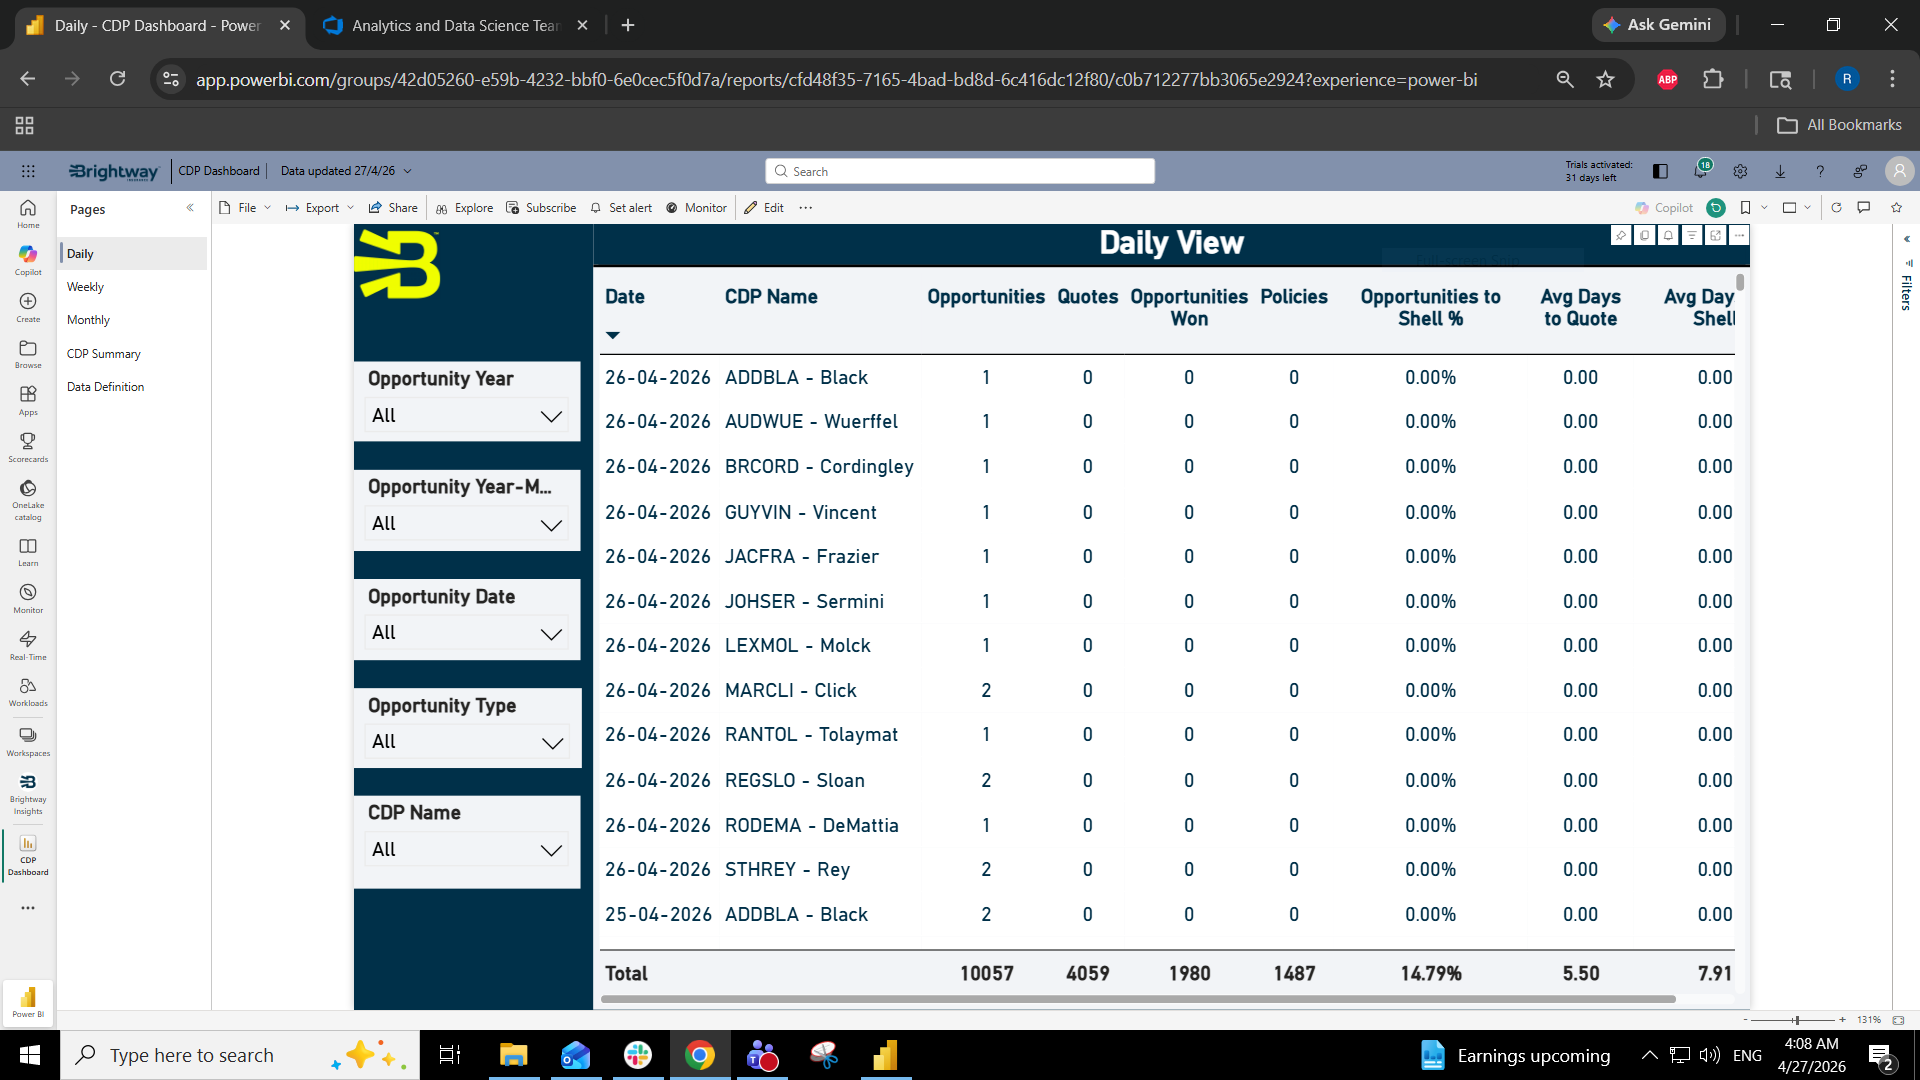

The page's visual inventory and layout, read from the dashboard file:
{"tool":"powerbi","page":{"name":"Daily","canvas":[1280,720],"ordinal":0},"visuals":[{"type":"tableEx","title":"Daily View","fields":{"Values":["Date.Date","CDP.CDP Name","CDP.Opportunities Count","CDP.Quotes Count","CDP.Opportunities Won","CDP.Policies","CDP.Conversion %","CDP.Avg Days to Quote (DateDiff)","CDP.Avg Days to Shell (DateDiff)"]},"box":[219,0,1060.7,720.2],"z":0},{"type":"slicer","fields":{"Values":["Date.Year"]},"box":[0,126.2,207.1,72.6],"z":1000},{"type":"slicer","fields":{"Values":["CDP.opportunitydate"]},"box":[0,325,207.1,73.8],"z":2000},{"type":"image","box":[0,0,79.7,72.2],"z":3000},{"type":"slicer","fields":{"Values":["Date.Month-Year"]},"box":[0,225,207.1,73.8],"z":4000},{"type":"slicer","fields":{"Values":["CDP.opportunitytype"]},"box":[0,425,208.3,72.6],"z":5000},{"type":"slicer","fields":{"Values":["CDP.Employee Key"]},"box":[0,523.8,207.1,85.7],"z":6000}]}

Visuals, with their boxes on the page's 1280x720 design canvas (x1, y1, x2, y2). These are canvas units, not pixel positions in the 1920x1080 screenshot, which may show the page scaled, cropped or inside an application window:
"Daily View" tableEx: (219, 0, 1280, 720)
slicer - Date.Year: (0, 126, 207, 199)
slicer - CDP.opportunitydate: (0, 325, 207, 399)
image: (0, 0, 80, 72)
slicer - Date.Month-Year: (0, 225, 207, 299)
slicer - CDP.opportunitytype: (0, 425, 208, 498)
slicer - CDP.Employee Key: (0, 524, 207, 610)
